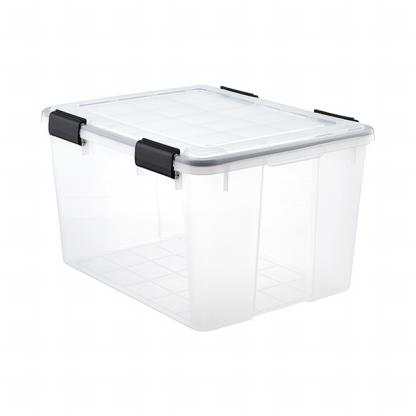plastic_box: (22, 35, 392, 346)
